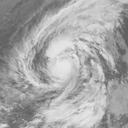cyclone: (16, 15, 109, 106)
